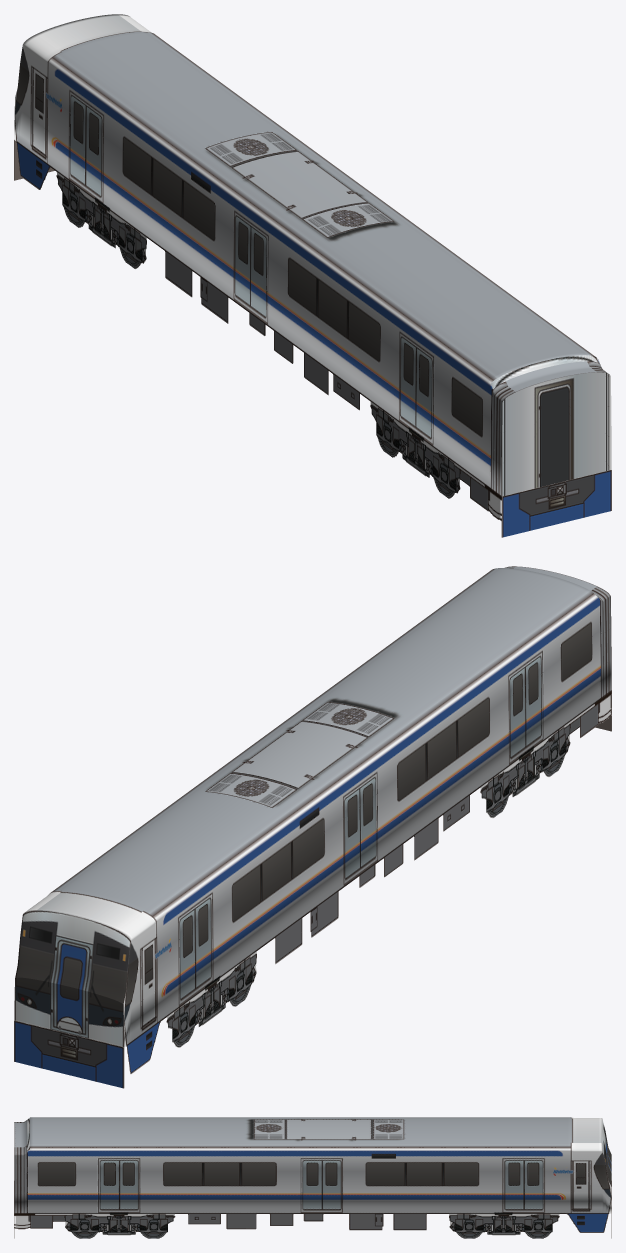
The model's file is car3.glb.
The picture shows the model from 3 angles, top to bottom: view 1: azimuth 30°, elevation 25°; view 2: azimuth 150°, elevation 25°; view 3: azimuth 270°, elevation 25°; orthographic projection. The views are drawn at different scales.
Visible parts, largest first — view 1: nisitetu-3000-car3; view 2: nisitetu-3000-car3; view 3: nisitetu-3000-car3.
Boxes of the visible parts, left/top/right/bottom form: nisitetu-3000-car3: left=14, top=14, right=611, bottom=537; nisitetu-3000-car3: left=14, top=566, right=611, bottom=1088; nisitetu-3000-car3: left=14, top=1117, right=611, bottom=1238.
Size of the model in its own units: 2.77 by 3.69 by 21.28.
Materials: 8 (7 with a texture image).
